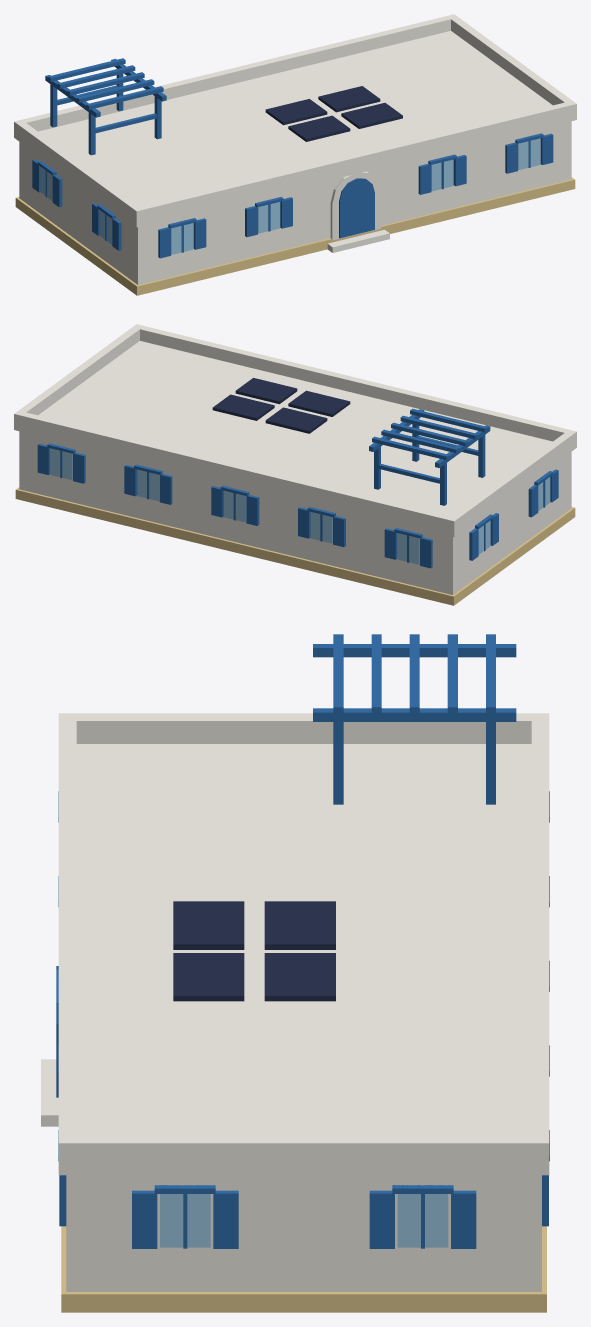
Rendered from house-2x1-1f-aegean-a-solar.glb.
The picture shows the model from 3 angles, top to bottom: view 1: azimuth 30°, elevation 25°; view 2: azimuth 150°, elevation 25°; view 3: azimuth 270°, elevation 25°; orthographic projection. The views are drawn at different scales.
Parts seen in each view (by area): view 1: house-2x1-1f-aegean-a-solar; view 2: house-2x1-1f-aegean-a-solar; view 3: house-2x1-1f-aegean-a-solar.
Boxes of the visible parts, bbox=[...] form: house-2x1-1f-aegean-a-solar: bbox=[14, 14, 576, 295]; house-2x1-1f-aegean-a-solar: bbox=[14, 324, 576, 605]; house-2x1-1f-aegean-a-solar: bbox=[41, 634, 549, 1312].
Bounding box in the file's own units: 2 × 0.586 × 1.
1 material, 1 textured.
